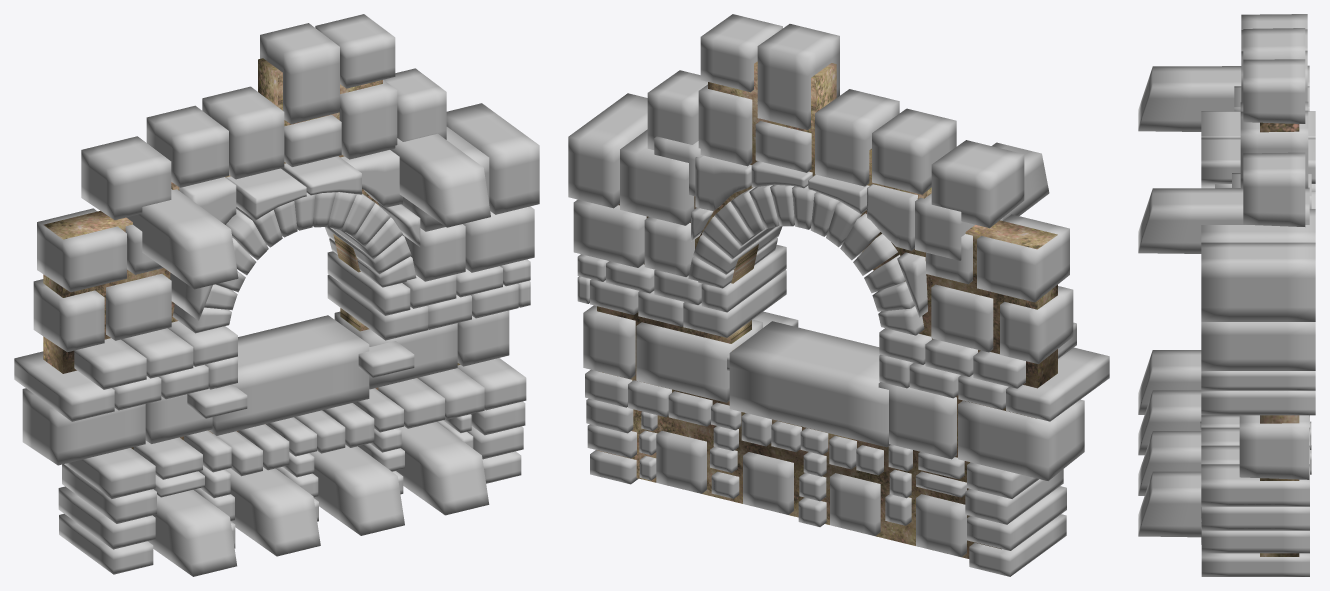
Rendered from window.fbx.
3 views of the same model, side by side, from view 1: azimuth 30°, elevation 25°; view 2: azimuth 150°, elevation 25°; view 3: azimuth 270°, elevation 25° (orthographic). The views are drawn at different scales.
Parts seen in each view (by area): view 1: Window; view 2: Window; view 3: Window.
Boxes of the visible parts, left/top/right/bottom form: Window: left=14, top=14, right=539, bottom=576; Window: left=568, top=14, right=1109, bottom=576; Window: left=1138, top=14, right=1315, bottom=576.
Size of the model in its own units: 150 by 139 by 49.83.
